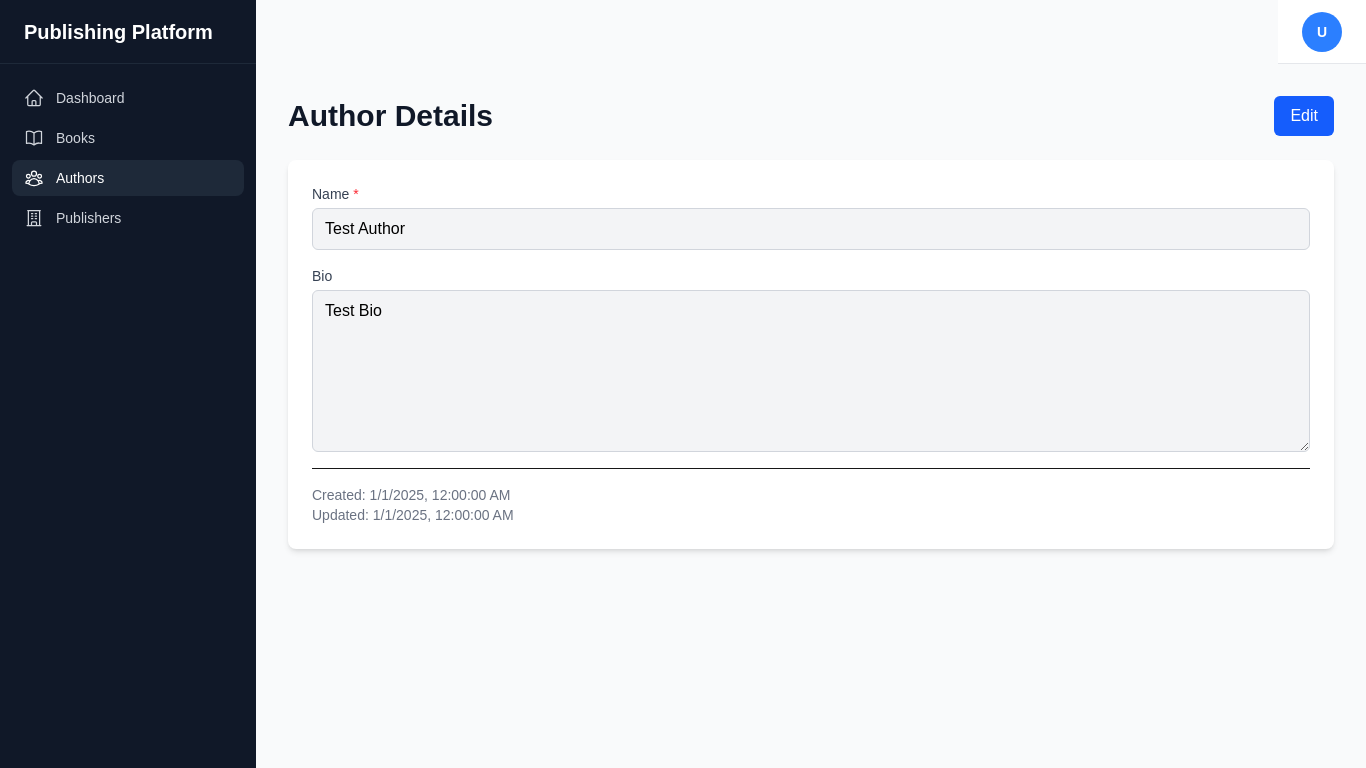
Scenario: AuthorDetailPage › View Mode › should enable edit mode when edit button is clicked
Expected: the field showing "Test Author" is disabled, [312, 208, 1310, 250]
Click the button "Edit": {"x": 1304, "y": 116} [1274, 96, 1334, 136]
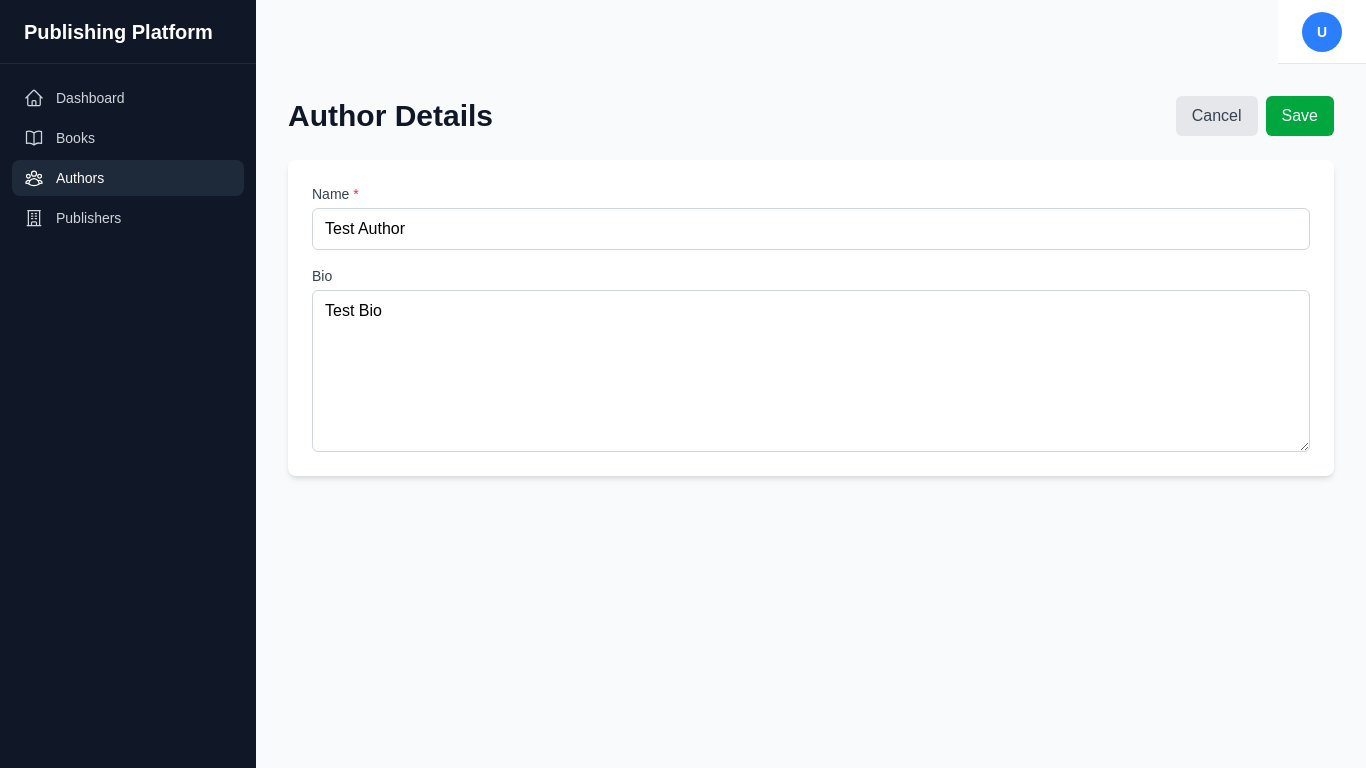
Expected: the field showing "Test Author" is enabled, [312, 208, 1310, 250]
Expected: the button "Save" is shown, [1266, 96, 1334, 136]
